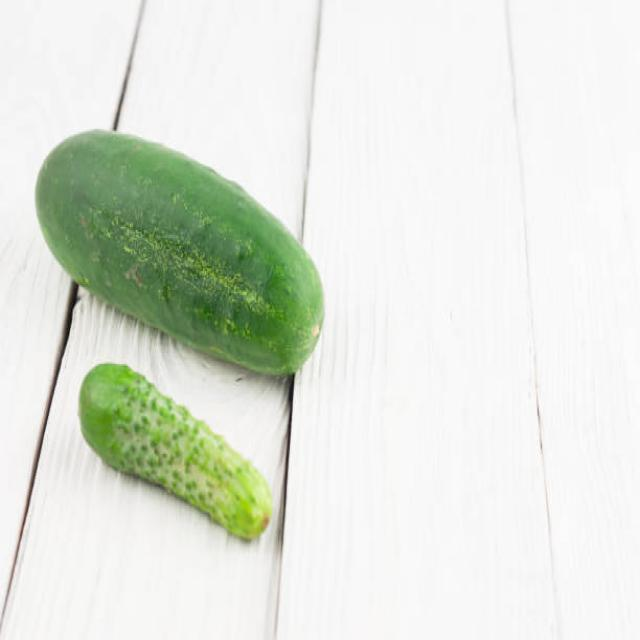cucumber: (35, 129, 324, 376), (78, 362, 274, 539)
